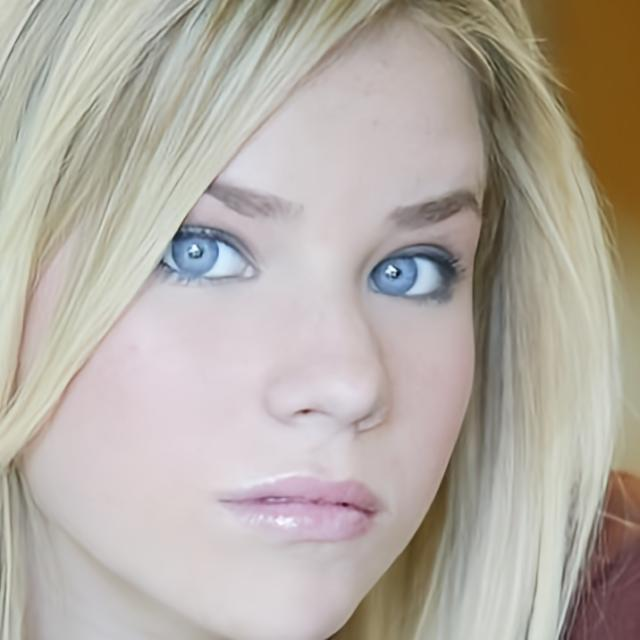neutral: (20, 0, 488, 640)
